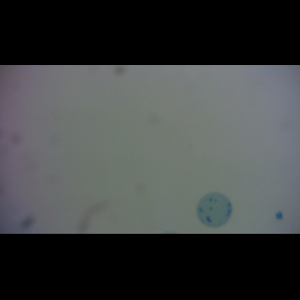aggregate reticulocyte: (197, 192, 233, 228)
